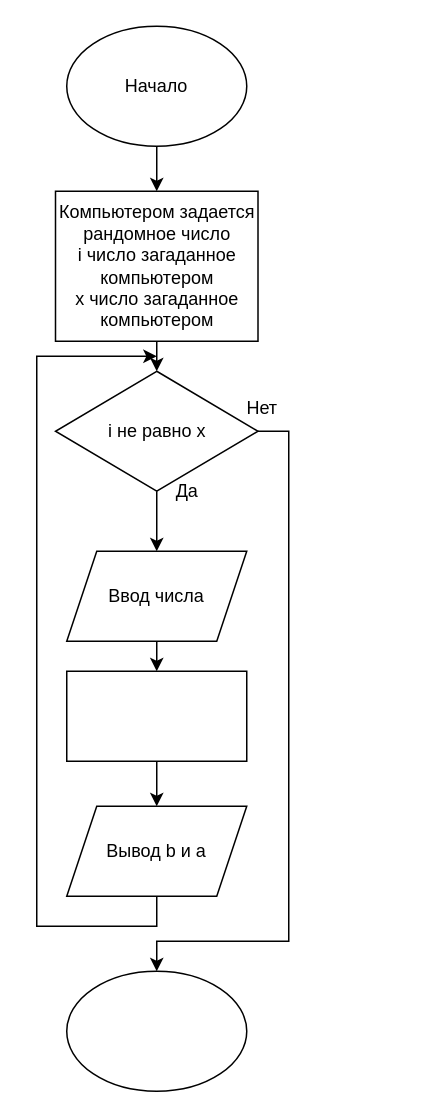
Some shapes in this 426 by 1118 pixel diagram are drawn without their labels. The shapes that lost their labels are listed below. From the top down, each one's box as (x1, y1, x2, y2) in pixels, then its label:
(65, 670, 247, 761): Подсчет Быков, Коров b= b+1 a=a+1
(65, 970, 247, 1091): Конец
